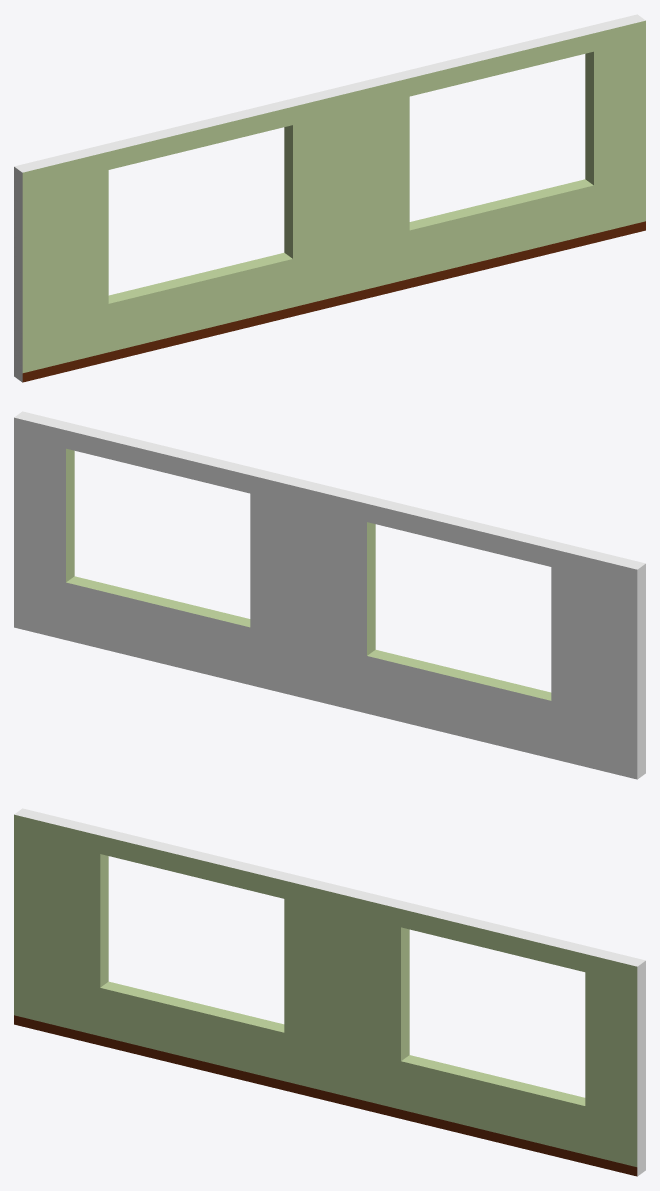
File: Wall 1.FBX
The picture shows the model from 3 angles, top to bottom: view 1: azimuth 30°, elevation 25°; view 2: azimuth 150°, elevation 25°; view 3: azimuth 330°, elevation 25°; orthographic projection.
Visible parts, largest first — view 1: Wall 1; view 2: Wall 1; view 3: Wall 1.
Boxes of the visible parts, x1,y1,x2,y2 form: Wall 1: (14,14,645,382); Wall 1: (14,411,645,779); Wall 1: (14,808,645,1176).
Size of the model in its own units: 901 by 290 by 21.38.
3 materials, 1 textured.
